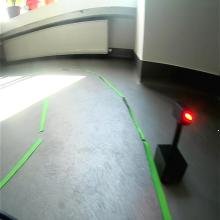red: (171, 100, 194, 127)
